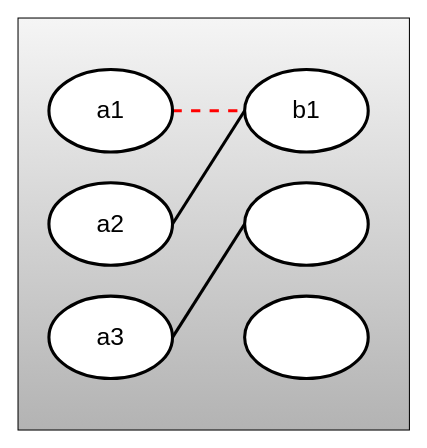
The diagram is 427 pixels wide and 448 high, and some of its shapes have lost their labels. The centre of each missing label's shape, as x and y in pixels:
"b2" goes at point (306, 223).
"b3" goes at point (306, 337).
